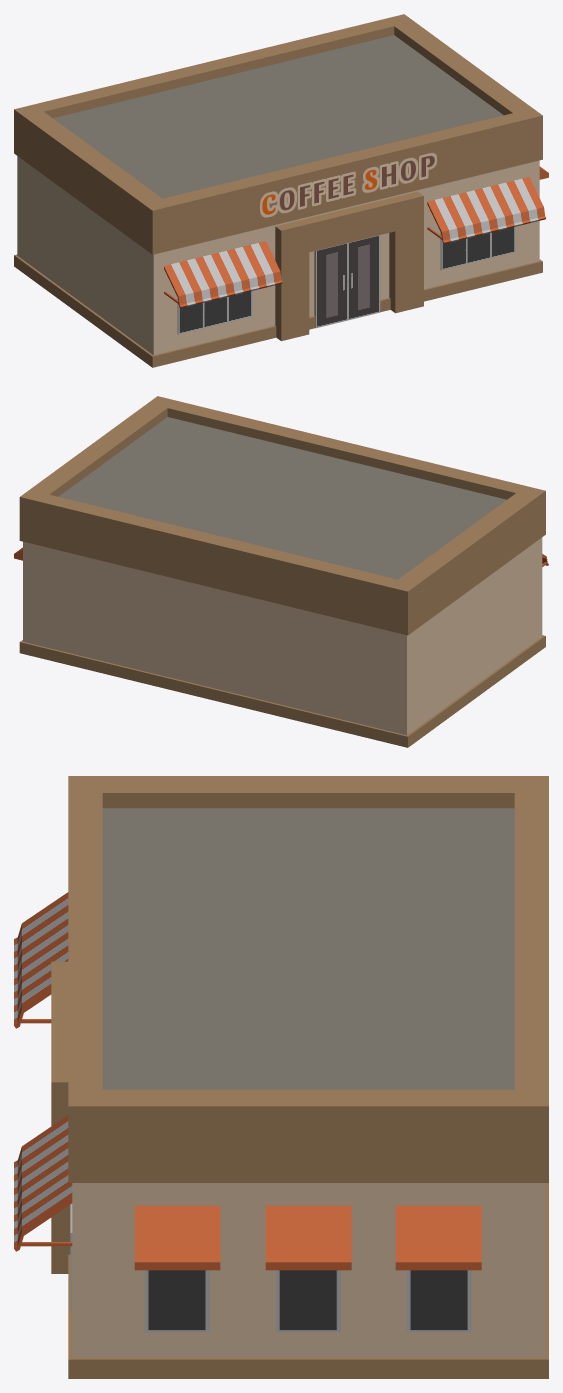
Rendered from Building_Coffee_Shop.glb.
The picture shows the model from 3 angles, top to bottom: view 1: azimuth 30°, elevation 25°; view 2: azimuth 150°, elevation 25°; view 3: azimuth 270°, elevation 25°; orthographic projection. The views are drawn at different scales.
Visible parts, largest first — view 1: Building_Coffee Shop; view 2: Building_Coffee Shop; view 3: Building_Coffee Shop.
Part boxes in pixels (left/top/right/bottom): Building_Coffee Shop: left=14, top=14, right=548, bottom=367; Building_Coffee Shop: left=14, top=396, right=548, bottom=747; Building_Coffee Shop: left=14, top=776, right=548, bottom=1378.
Size of the model in its own units: 19.38 by 7 by 12.46.
Materials: 1 (1 with a texture image).
